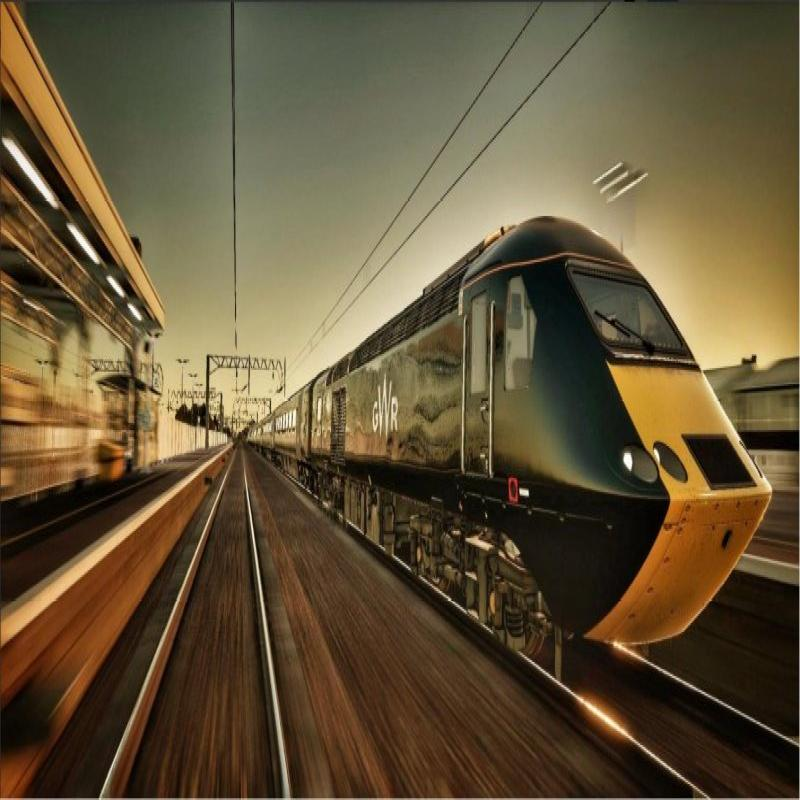train: (444, 216, 779, 685)
